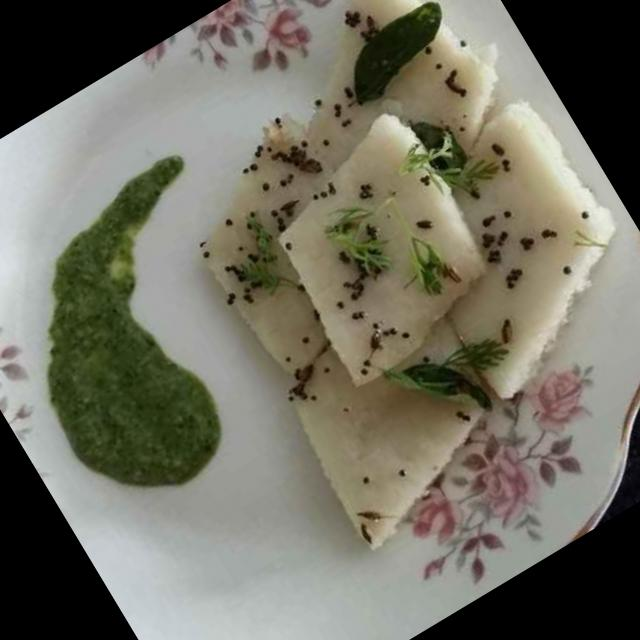dhokla: (101, 0, 640, 567)
